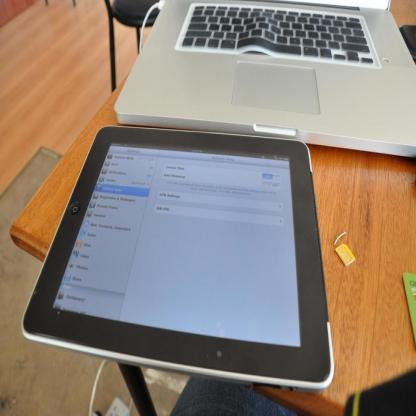board: (114, 0, 416, 157)
